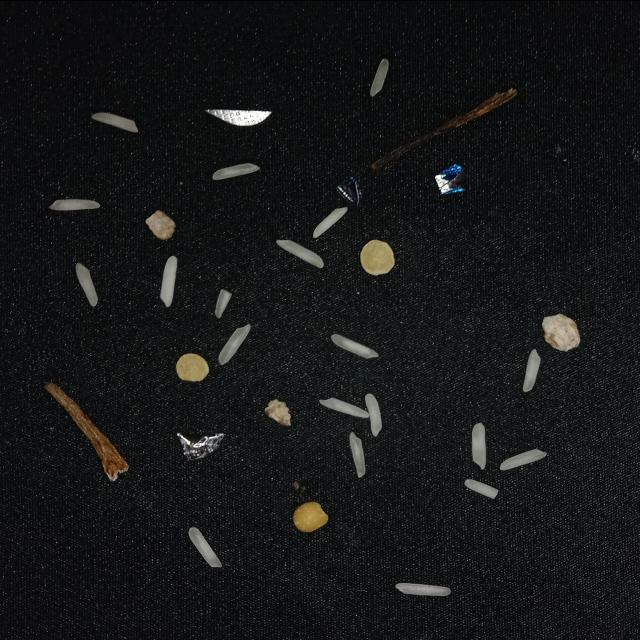Broken: (464, 478, 498, 498), (214, 287, 232, 317)
Full: (371, 86, 518, 168), (188, 526, 224, 566), (276, 238, 324, 268), (218, 322, 251, 364), (331, 332, 379, 358), (313, 205, 349, 238), (90, 110, 138, 132), (500, 448, 548, 470), (320, 397, 370, 417), (76, 262, 98, 306), (160, 254, 178, 306), (213, 162, 260, 180), (523, 348, 541, 391), (369, 58, 389, 96), (396, 582, 450, 596), (349, 431, 365, 476), (366, 392, 382, 436), (472, 422, 486, 469), (50, 198, 100, 210)
